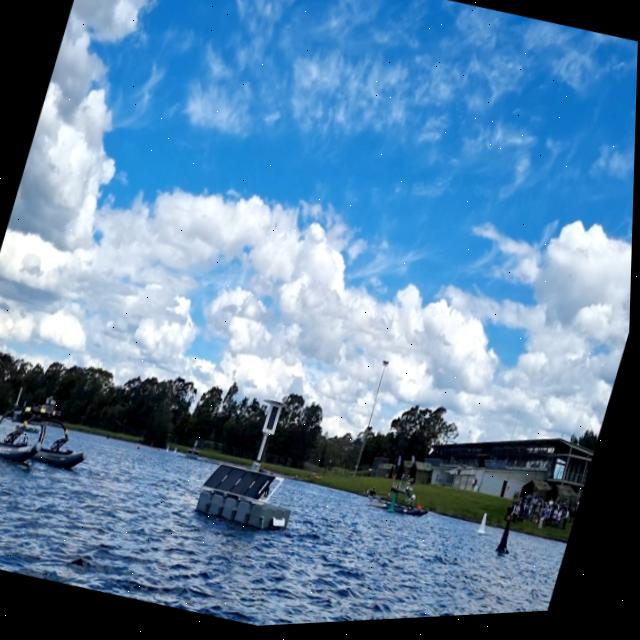led: (266, 405, 284, 436)
